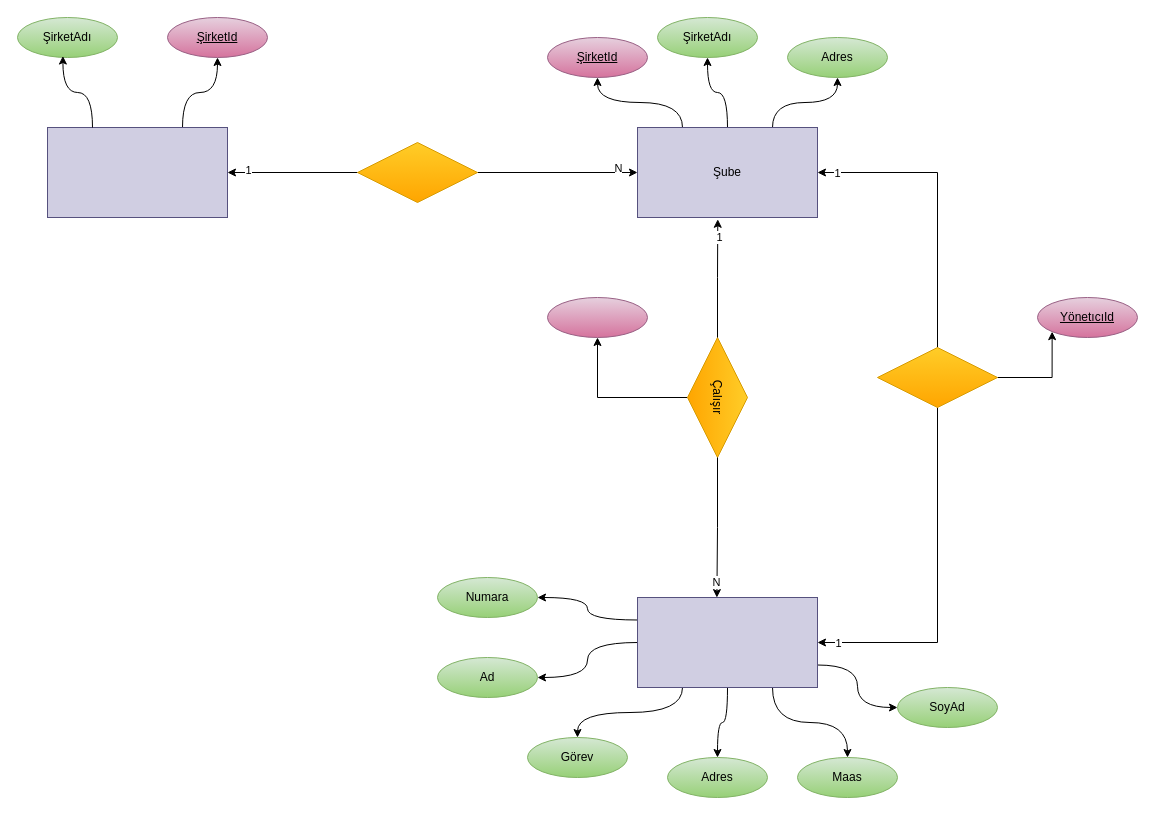
Image size: 1155x815. Some labels were removed from this diagram. Here are the shapes that lost their labels. From the top down, the centre of each, then its label:
At point 137,172: "Şirket".
At point 417,172: "Sahiptir".
At point 597,317: "ÇalışanId".
At point 937,377: "Yönetir".
At point 727,642: "Çalışan".
